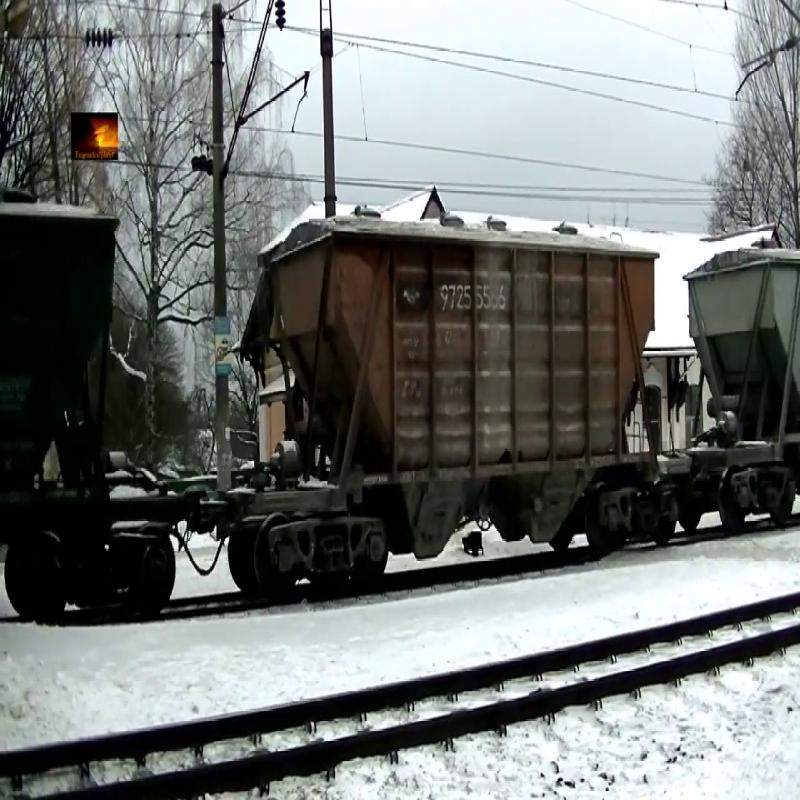train: (218, 214, 659, 588)
